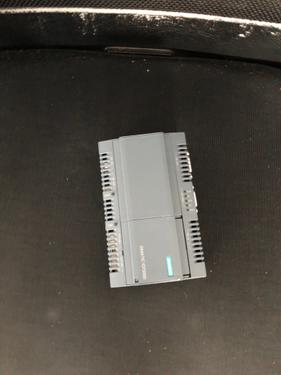device: (99, 132, 207, 289)
